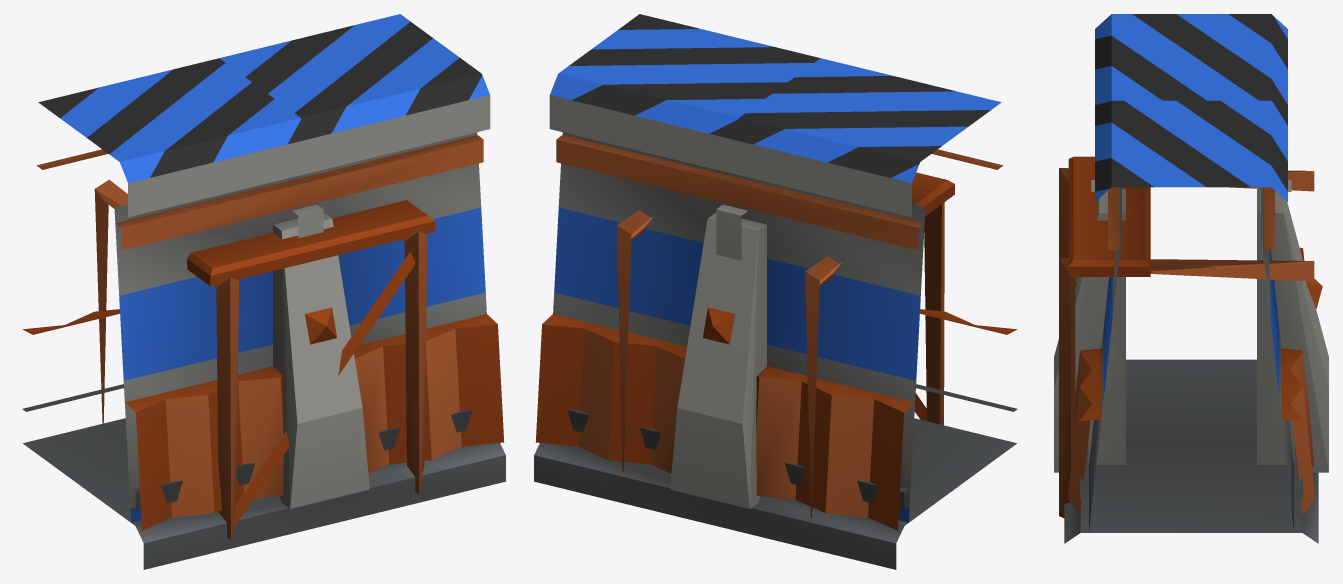
3 views of the same model, side by side, from view 1: azimuth 30°, elevation 25°; view 2: azimuth 150°, elevation 25°; view 3: azimuth 270°, elevation 25° (orthographic).
Visible parts, largest first — view 1: body, scaffoldFrame; view 2: body, scaffoldFrame; view 3: body, scaffoldFrame.
Boxes of the visible parts, x1,y1,x2,y2 form: body: (22,14,505,569); scaffoldFrame: (94,179,434,539); body: (534,14,1017,569); scaffoldFrame: (617,172,954,517); body: (1054,14,1328,543); scaffoldFrame: (1059,156,1314,517).
Size of the model in its own units: 1 by 1.03 by 0.67.
